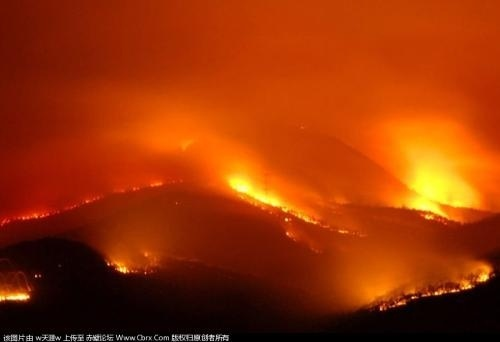fire: (0, 168, 176, 217), (223, 168, 318, 226), (400, 160, 481, 225), (373, 264, 495, 304), (105, 247, 157, 276), (0, 279, 31, 304)
